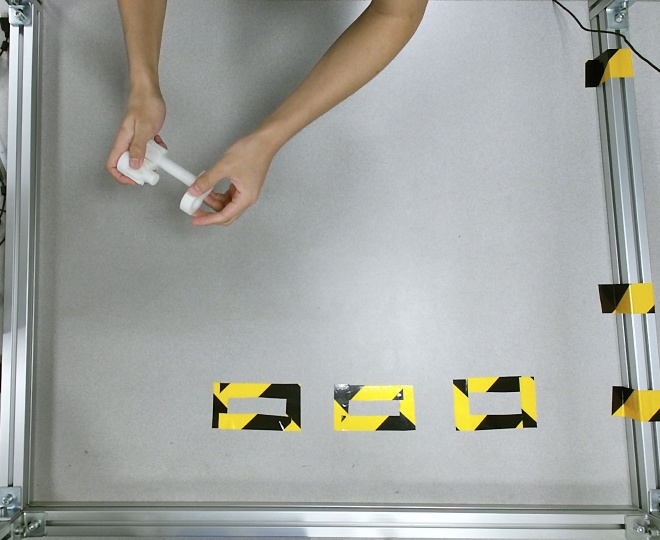stage_3: (117, 139, 198, 187)
